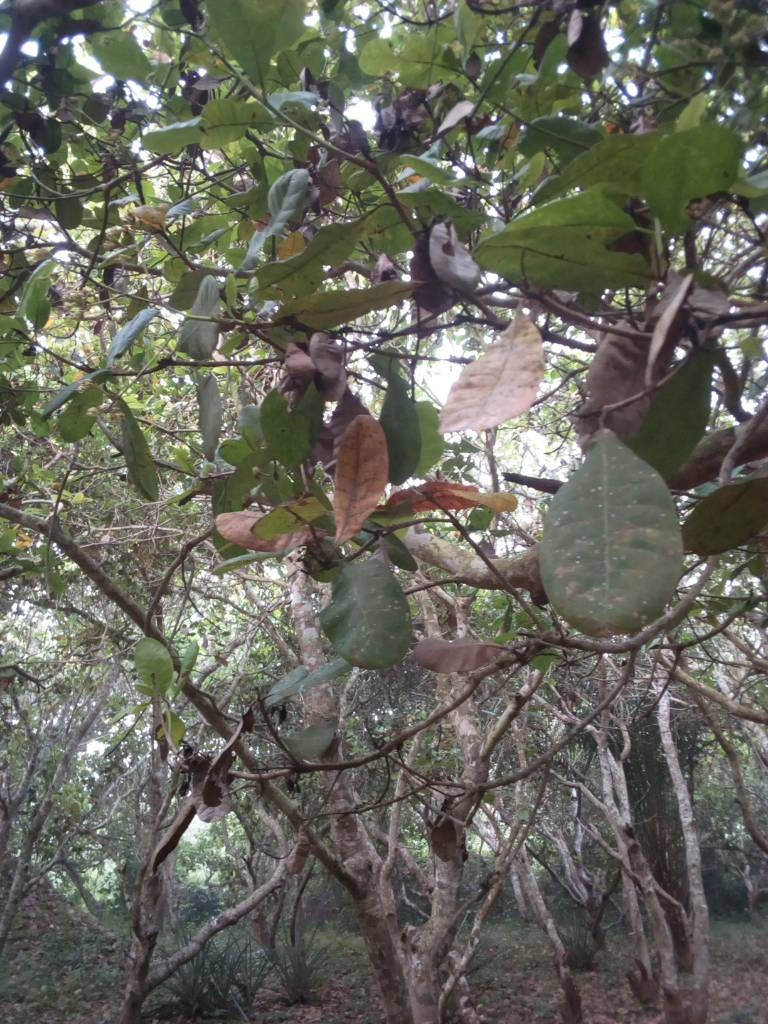Oidium: (521, 409, 717, 658), (313, 537, 435, 684)
